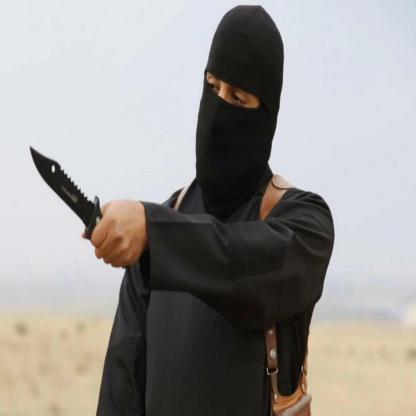knife: (28, 143, 106, 238)
